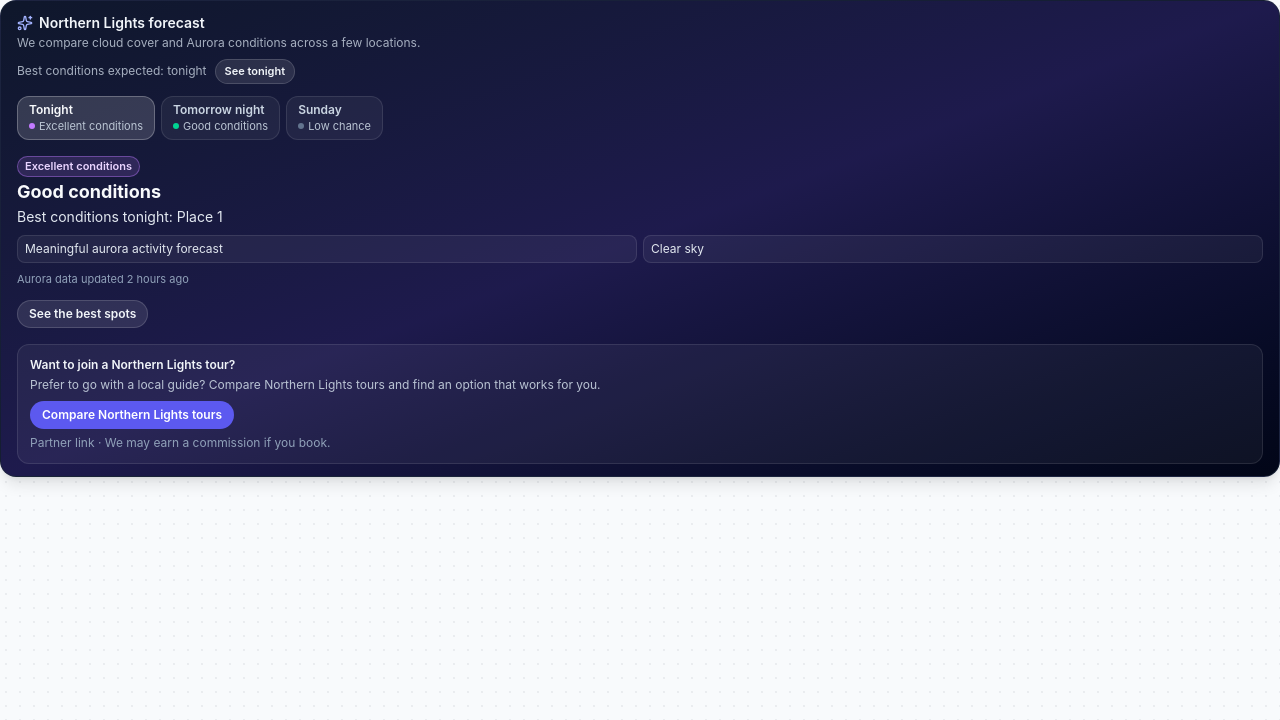
Test: readable outlooks and accessibility › excellent stays distinct from good in both the overview and the selected-night pill (#414 purple)
Expected: the text "Excellent conditions" is shown, [17, 156, 140, 176]
Expected: the text with test id "nl3-status-pill" reads "Excellent conditions", [25, 159, 132, 173]
Click the button "Tomorrow night Good conditions". click: (221, 118)
box: [161, 96, 280, 140]
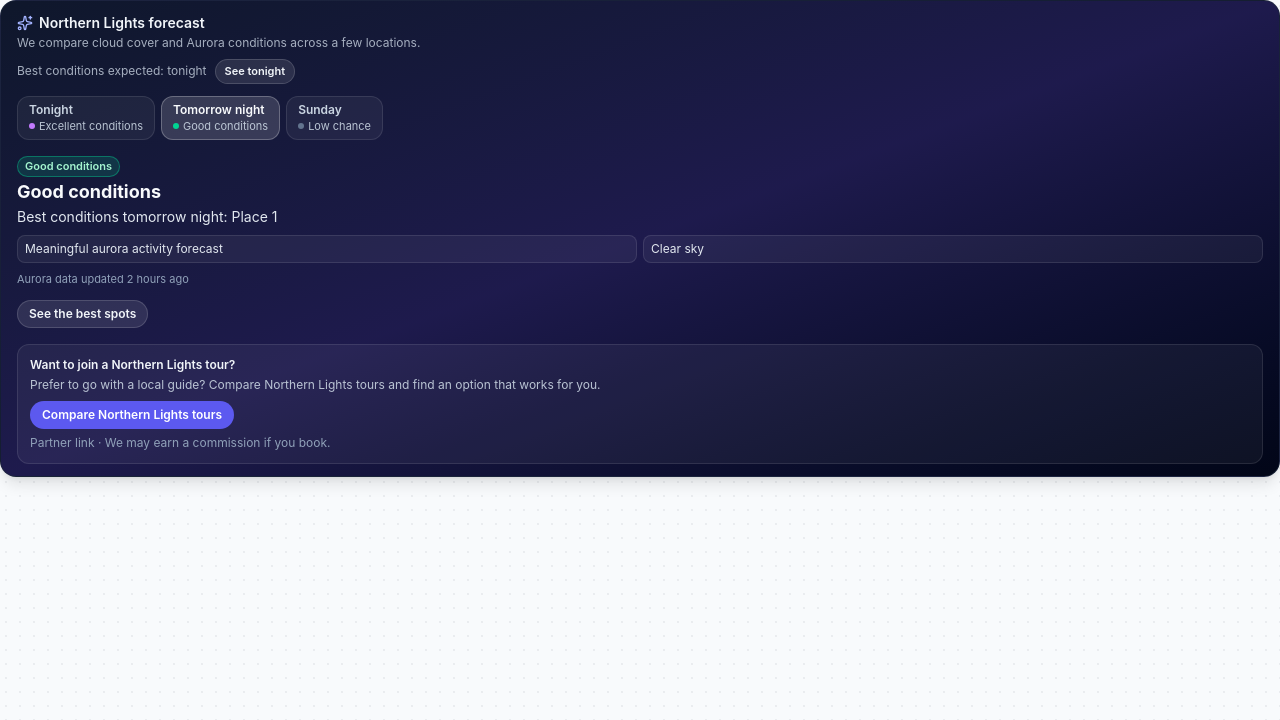
Expected: the text with test id "nl3-status-pill" reads "Good conditions", [25, 159, 112, 173]
